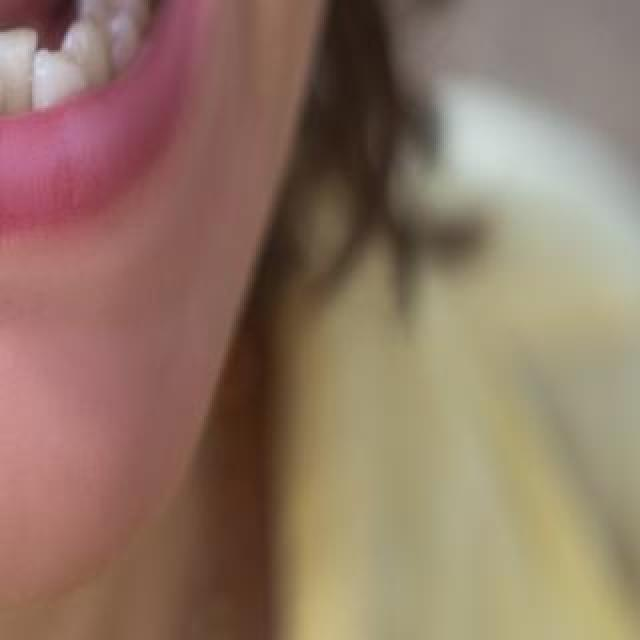maligned: (0, 26, 46, 110), (28, 40, 84, 102), (0, 60, 10, 110)
